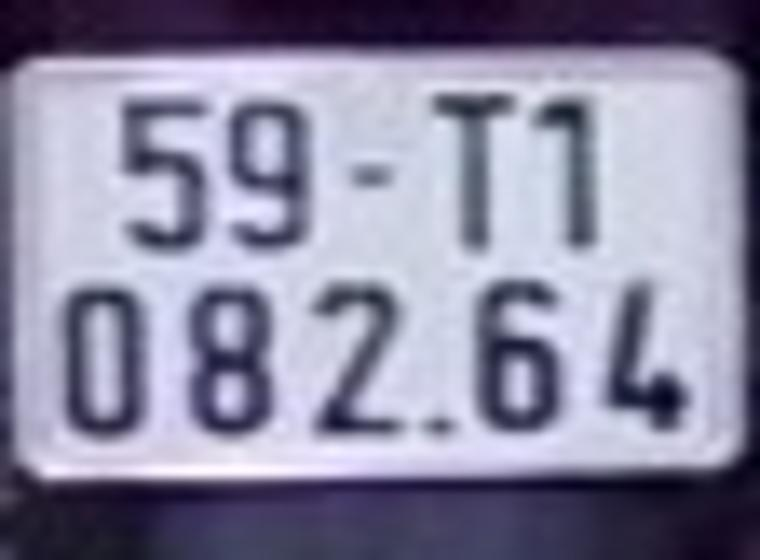-: (347, 161, 397, 186)
.: (432, 420, 450, 434)
0: (63, 287, 145, 432)
1: (535, 95, 595, 244)
2: (315, 283, 397, 430)
4: (604, 283, 690, 428)
5: (118, 98, 206, 247)
6: (479, 279, 557, 429)
8: (191, 287, 271, 433)
9: (231, 103, 310, 247)
T: (431, 91, 517, 253)
